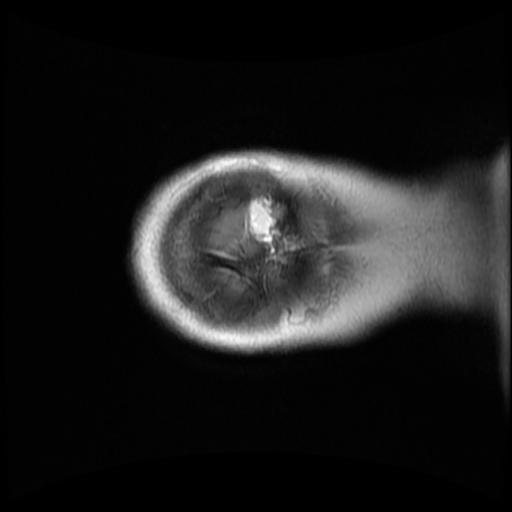meningioma: (247, 193, 281, 254)
